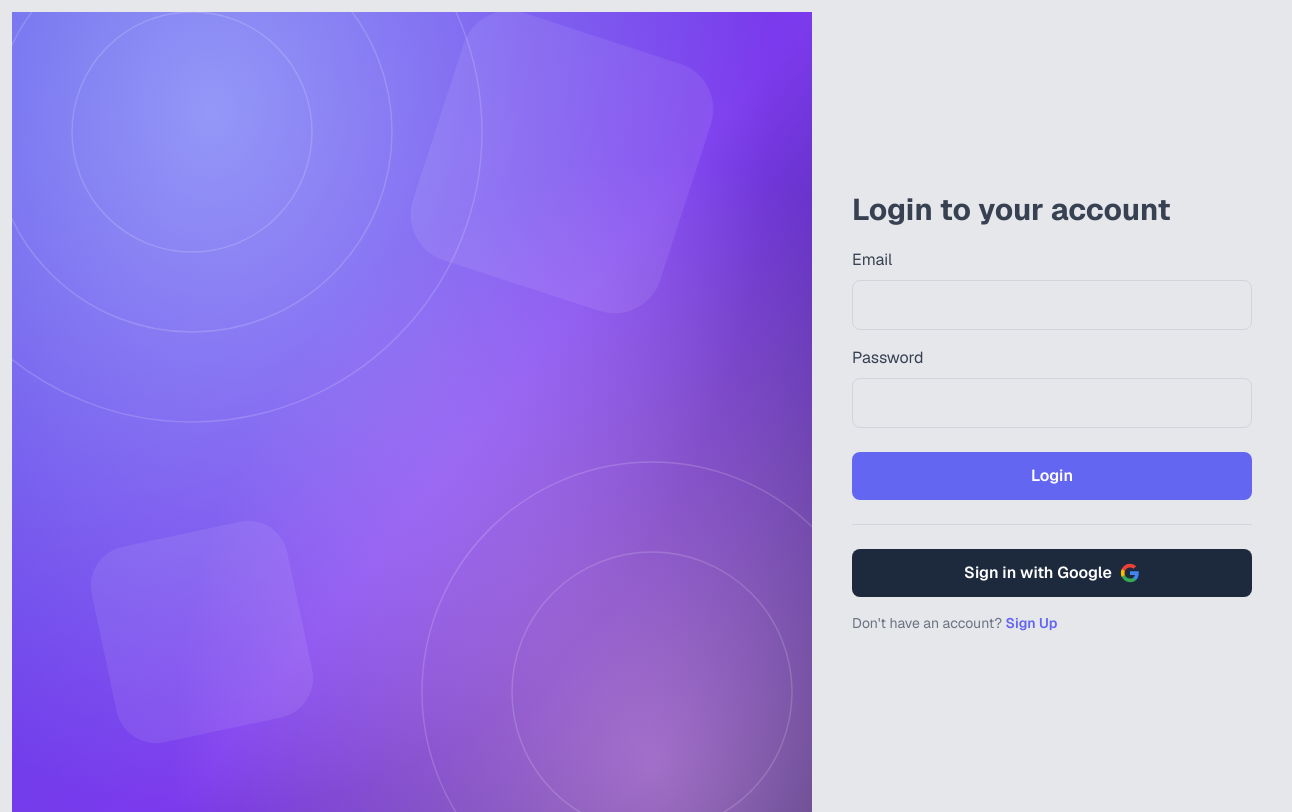
Test case: Página /authentication › alternância entre login e cadastro › volta para o login pelo link de rodapé
The image size is (1292, 812).
Click the button "Sign Up".
click(1032, 622)  # box [1006,612,1058,632]
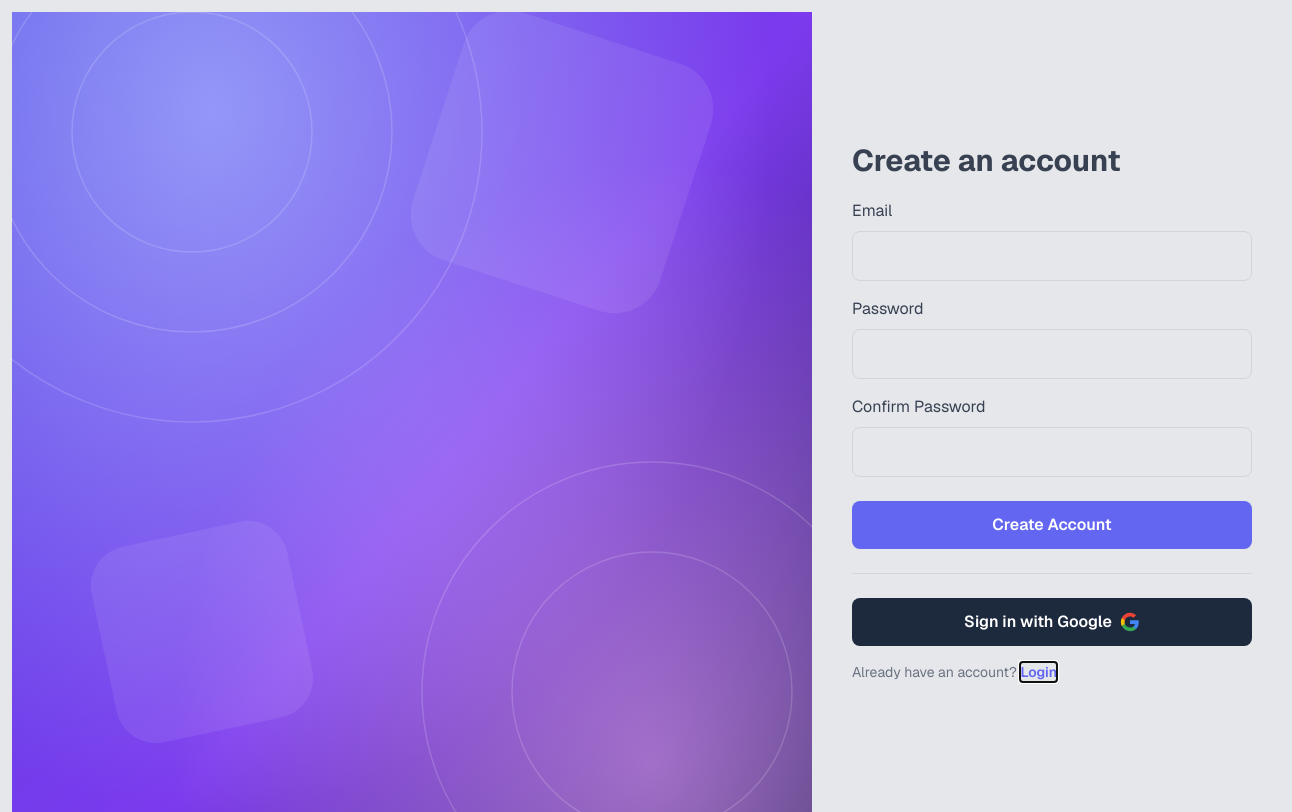
Click the button "Login".
click(1039, 672)  # box [1020,662,1057,682]
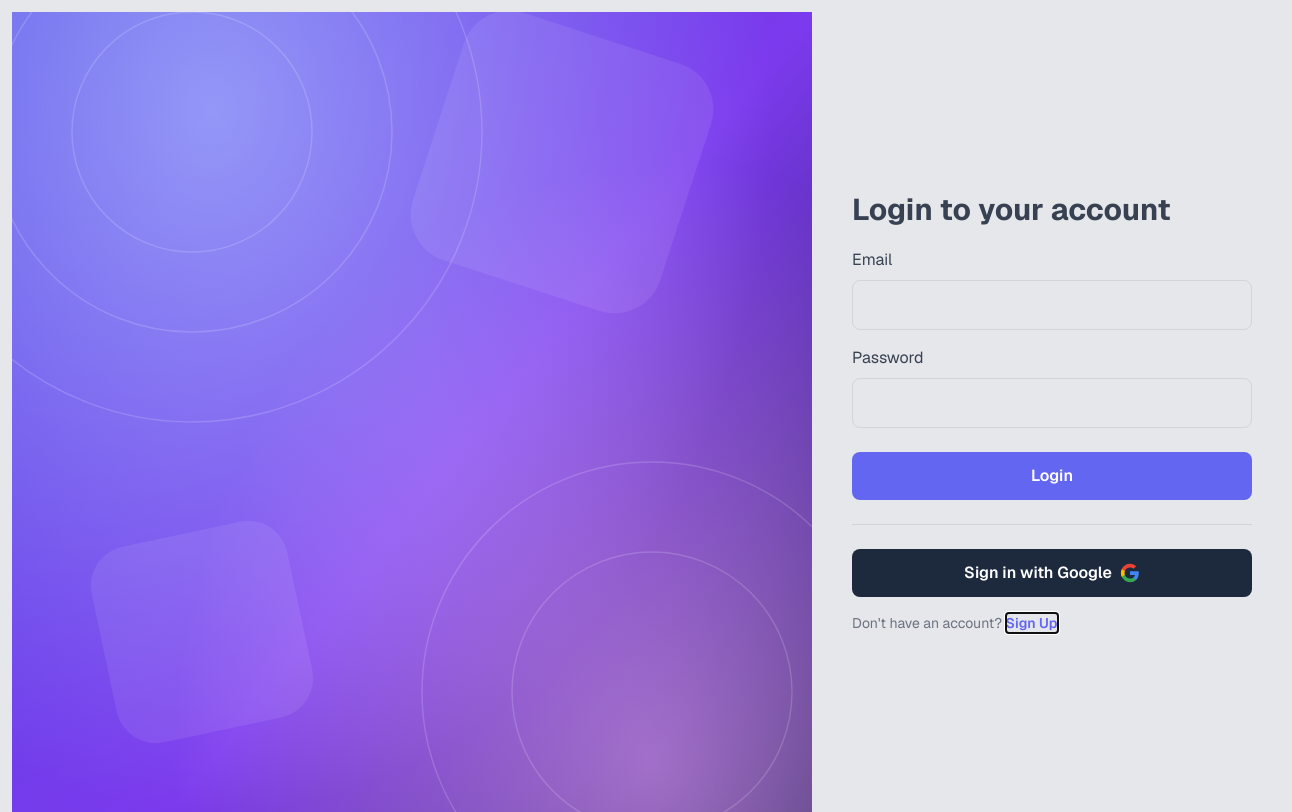
Result: the heading "Login to your account" is shown at [852,190,1171,228]
